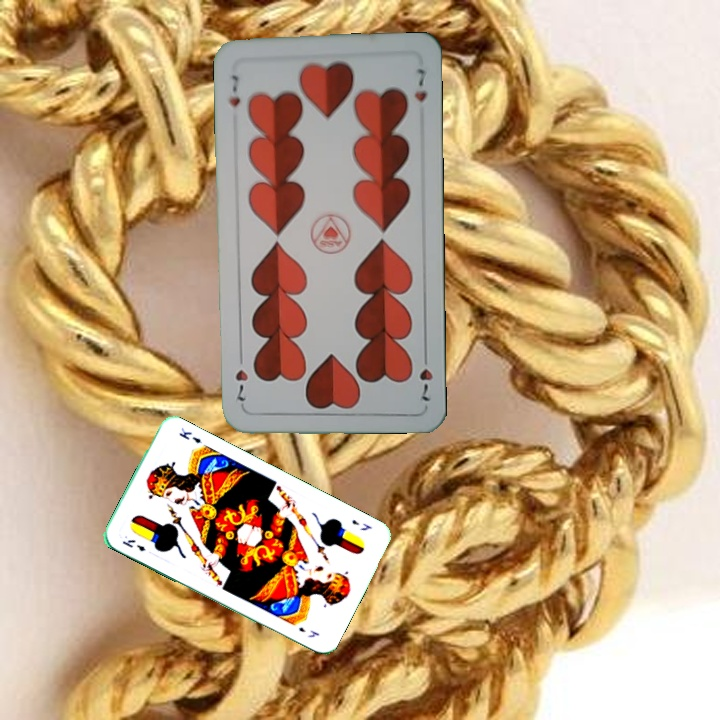EK: (118, 535, 148, 554), (348, 515, 375, 533)
H7: (415, 347, 435, 403), (226, 71, 243, 109)
